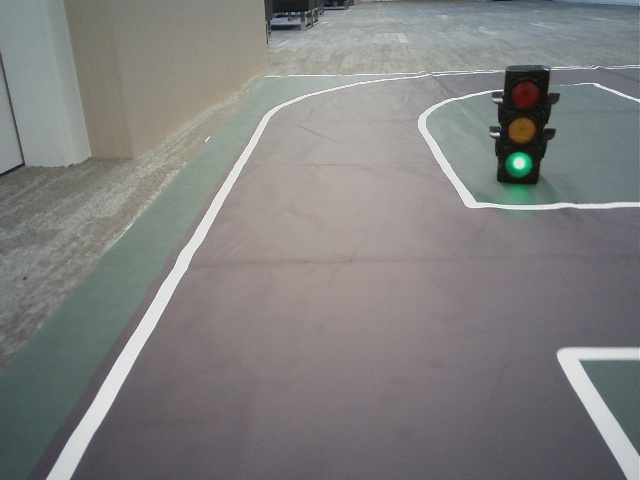green: (504, 71, 543, 180)
